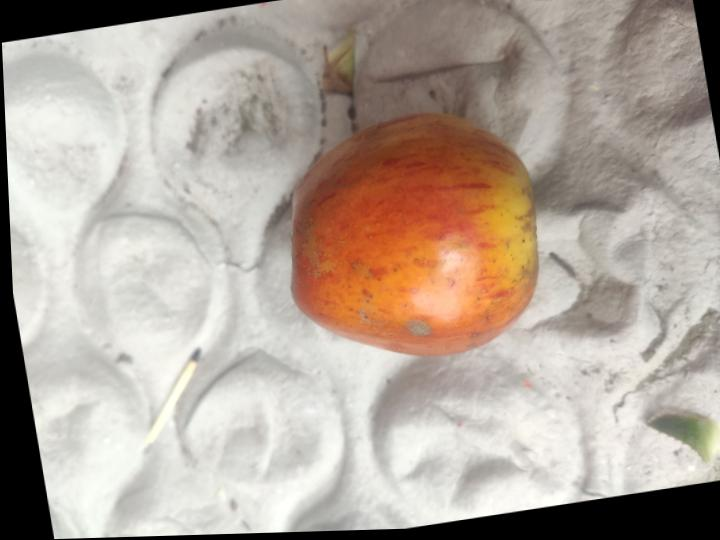apple: (292, 113, 538, 354)
bruise_discoloration: (294, 155, 352, 280), (427, 258, 454, 289), (352, 261, 373, 280)
surface_damage: (406, 319, 432, 336)
